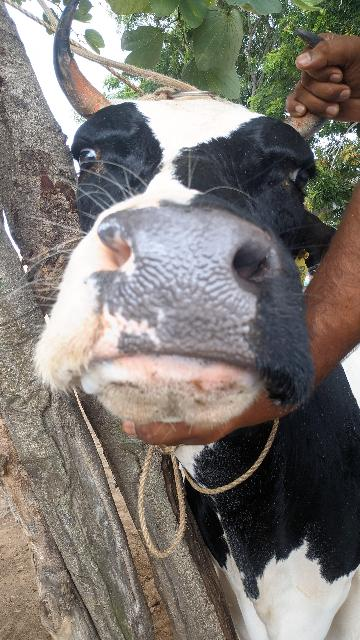Muzzle: (100, 210, 246, 352)
